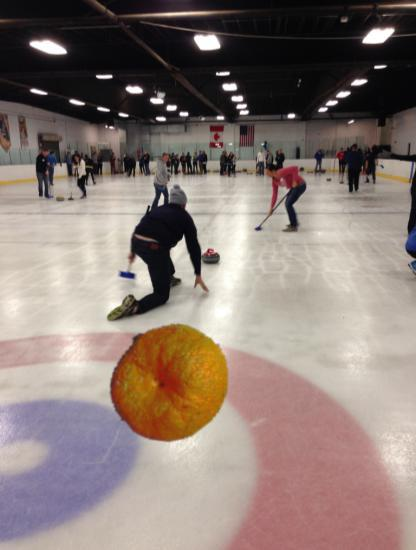Mandarine: (107, 319, 232, 444)
